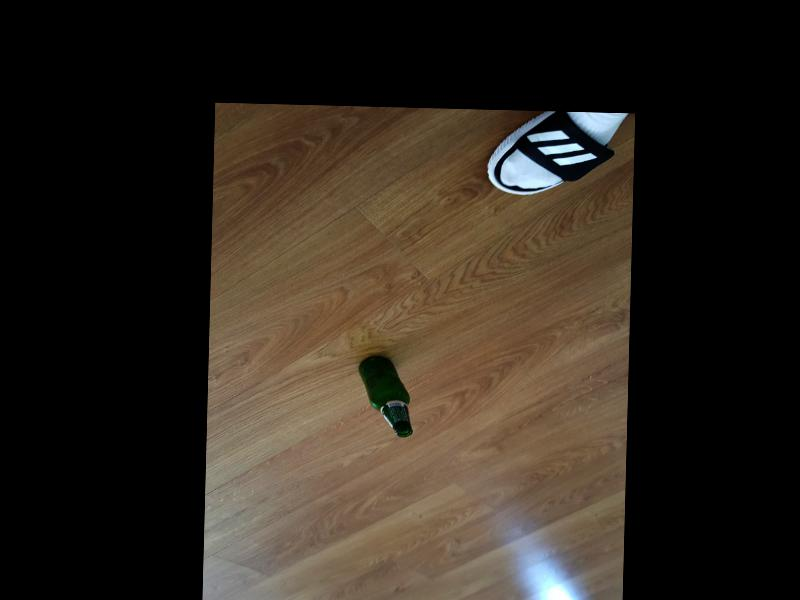Beer: (359, 356, 414, 435)
